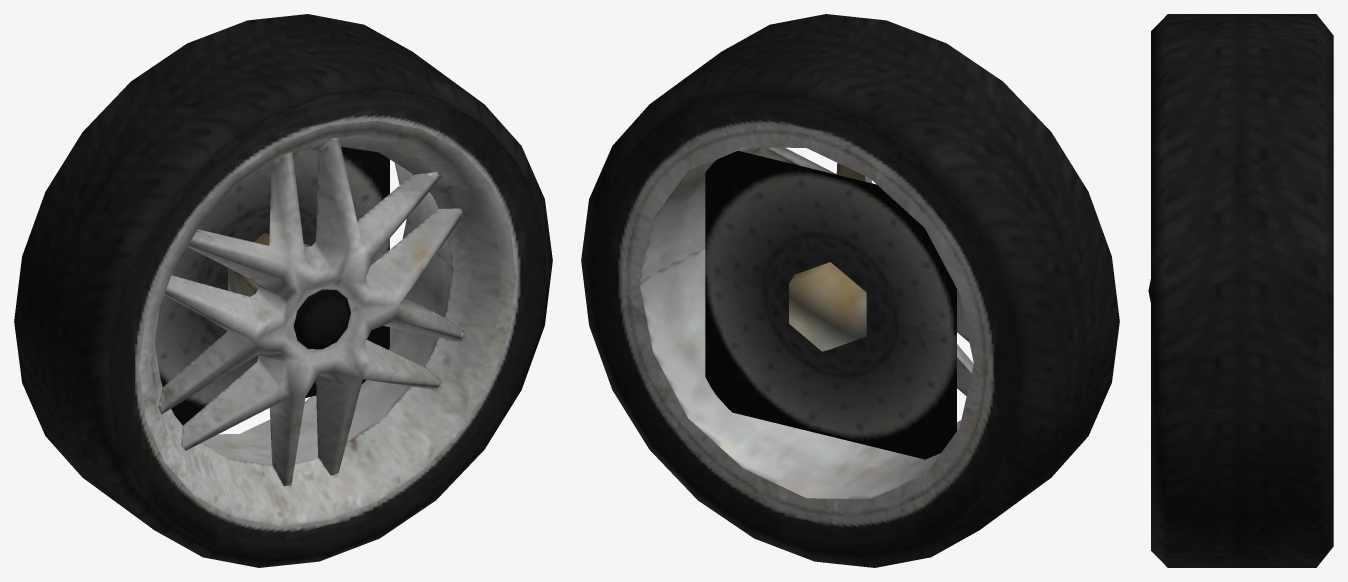
File: V_A_ExoticMuscle_Wheel_3_SkeletalMesh3_SkeletalMesh_3.psk.glb
The picture shows the model from 3 angles, left to right: view 1: azimuth 30°, elevation 25°; view 2: azimuth 150°, elevation 25°; view 3: azimuth 270°, elevation 25°; orthographic projection. The views are drawn at different scales.
Size of the model in its own units: 72.19 by 72.19 by 24.03.
1 material, 1 textured.
